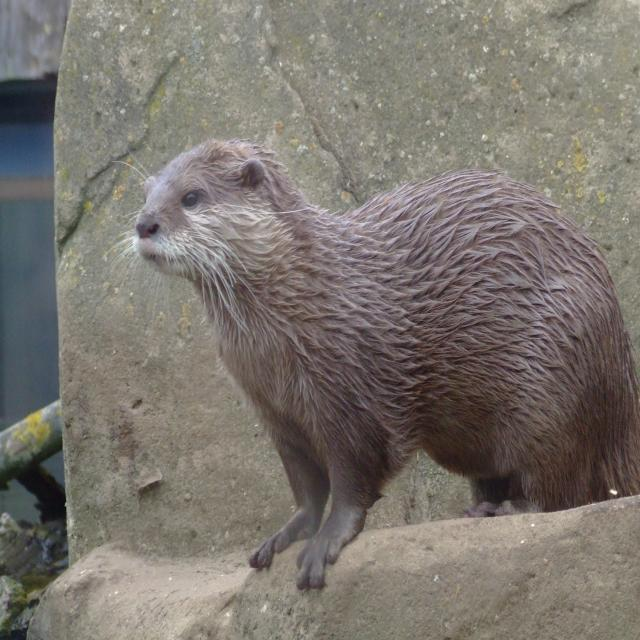otter: (139, 140, 640, 590)
